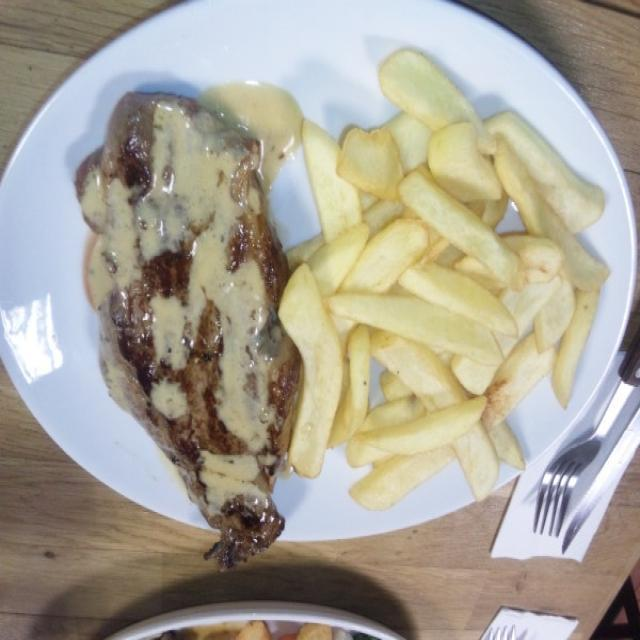French Fries: (286, 66, 610, 518)
